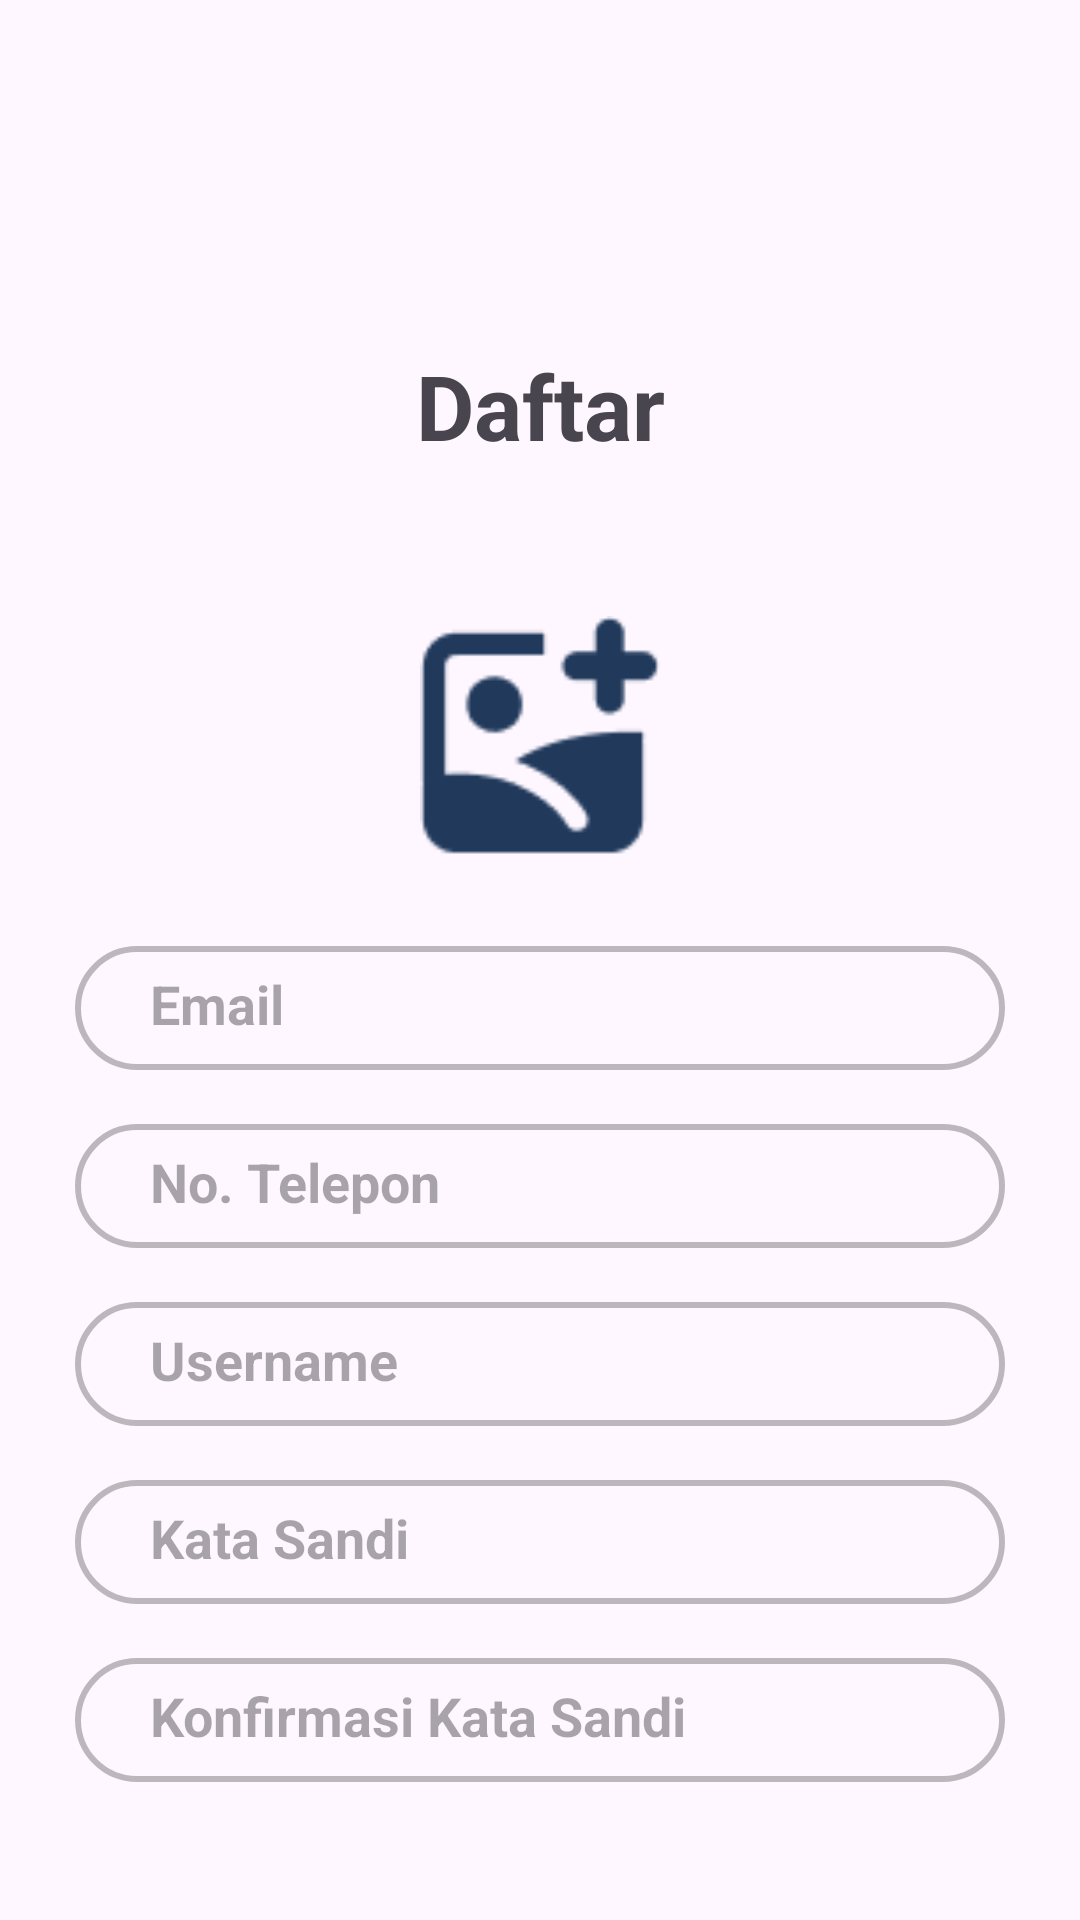

Point at icon controls on the screen. Image size 1080 × 1920, points as point (x, y).
add gambar: point (539, 735)
